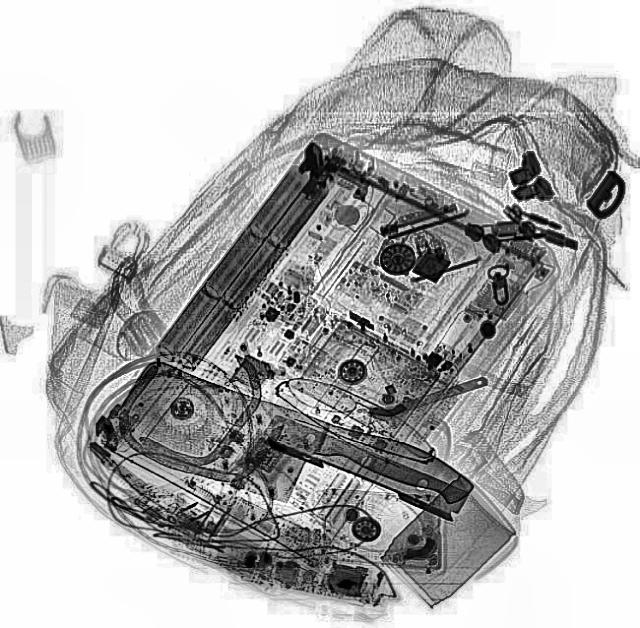Knife: (107, 354, 480, 562)
